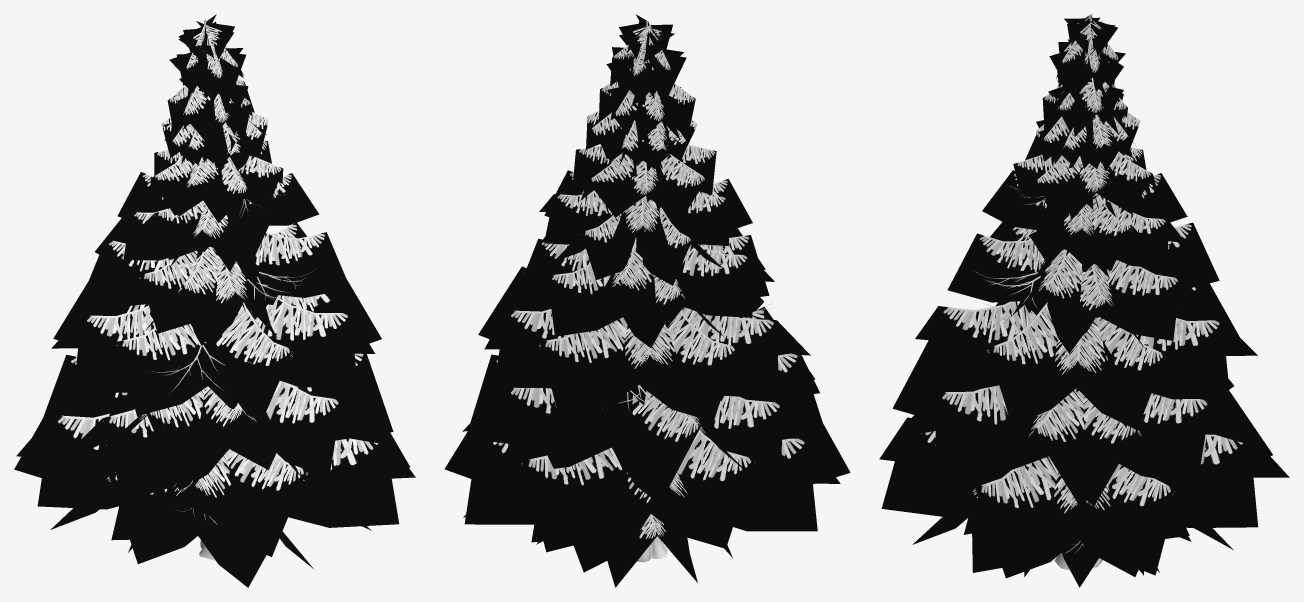
Rendered from Spruce 2.fbx.
The picture shows the model from 3 angles, left to right: view 1: azimuth 30°, elevation 25°; view 2: azimuth 150°, elevation 25°; view 3: azimuth 270°, elevation 25°; orthographic projection. The views are drawn at different scales.
Visible parts, largest first — view 1: Spruce 2_LOD0; view 2: Spruce 2_LOD0; view 3: Spruce 2_LOD0.
Part boxes in pixels (<box>): Spruce 2_LOD0: <box>14,14,415,587</box>; Spruce 2_LOD0: <box>444,14,850,587</box>; Spruce 2_LOD0: <box>879,14,1289,587</box>.
Size of what is drawn, in the model's own units: 337 by 500 by 344.
